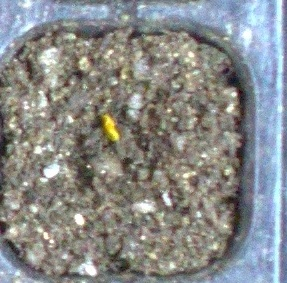chilli seed: (100, 112, 120, 142)
